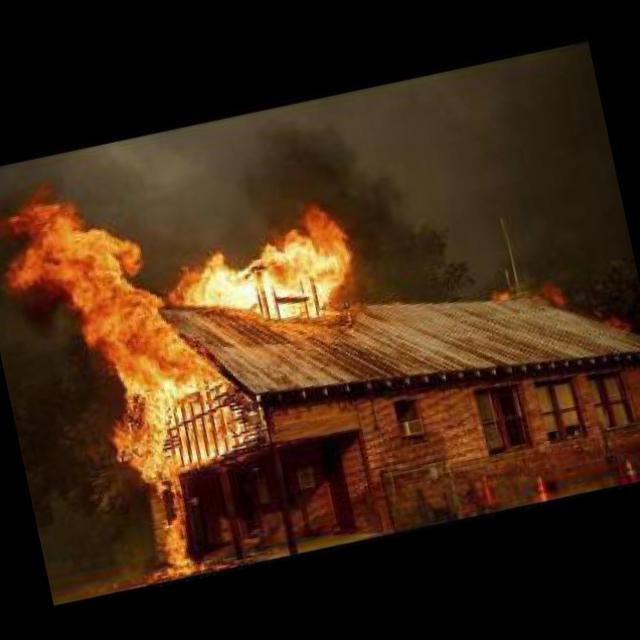fire: (0, 116, 414, 595), (530, 274, 570, 312), (490, 282, 512, 302)
